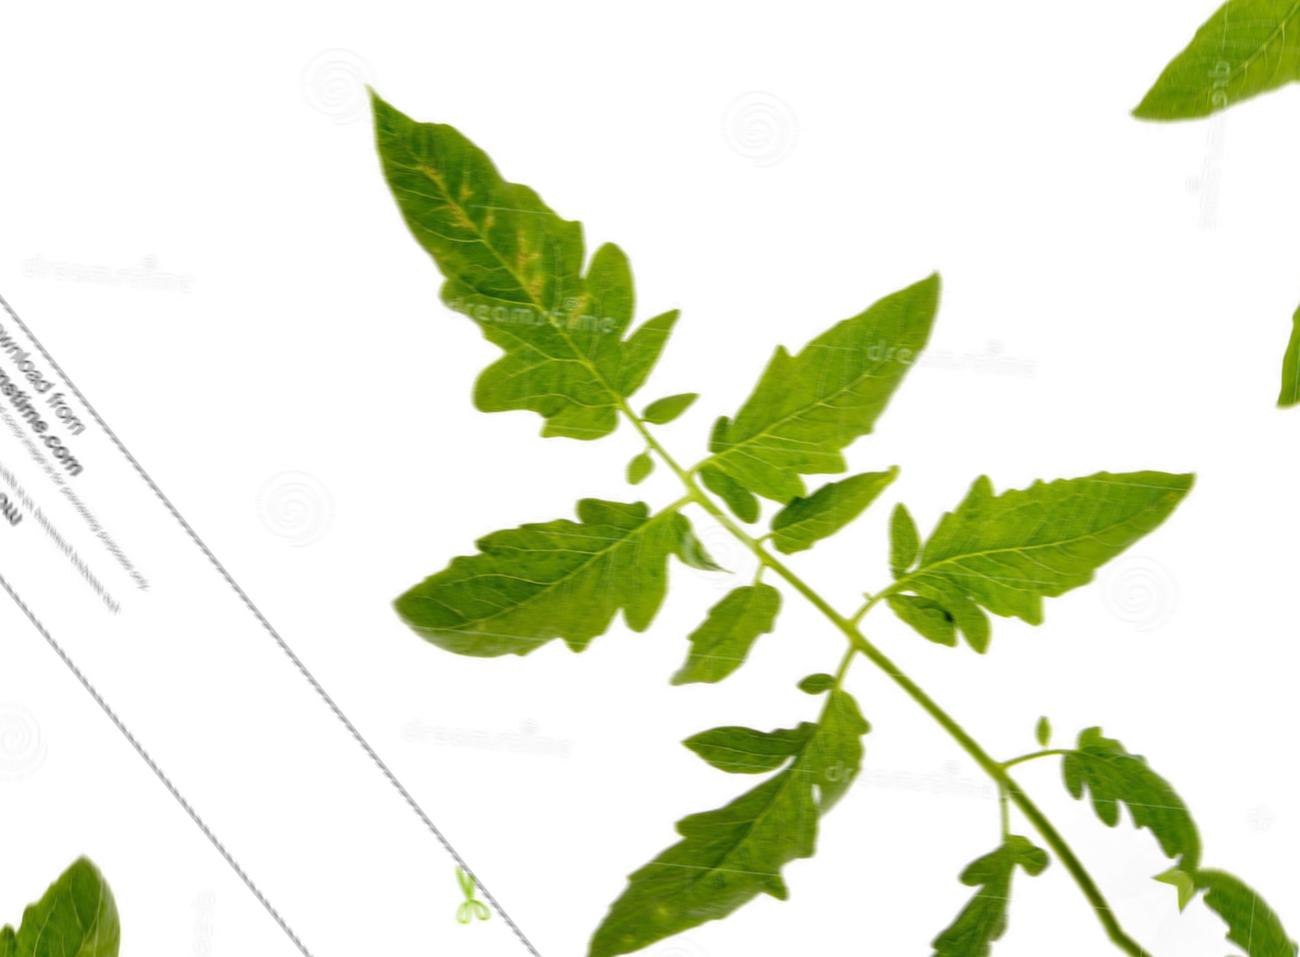Tomato leaf: (247, 15, 732, 519), (316, 374, 764, 806), (810, 314, 1243, 726), (492, 616, 953, 957), (652, 211, 1043, 569)
